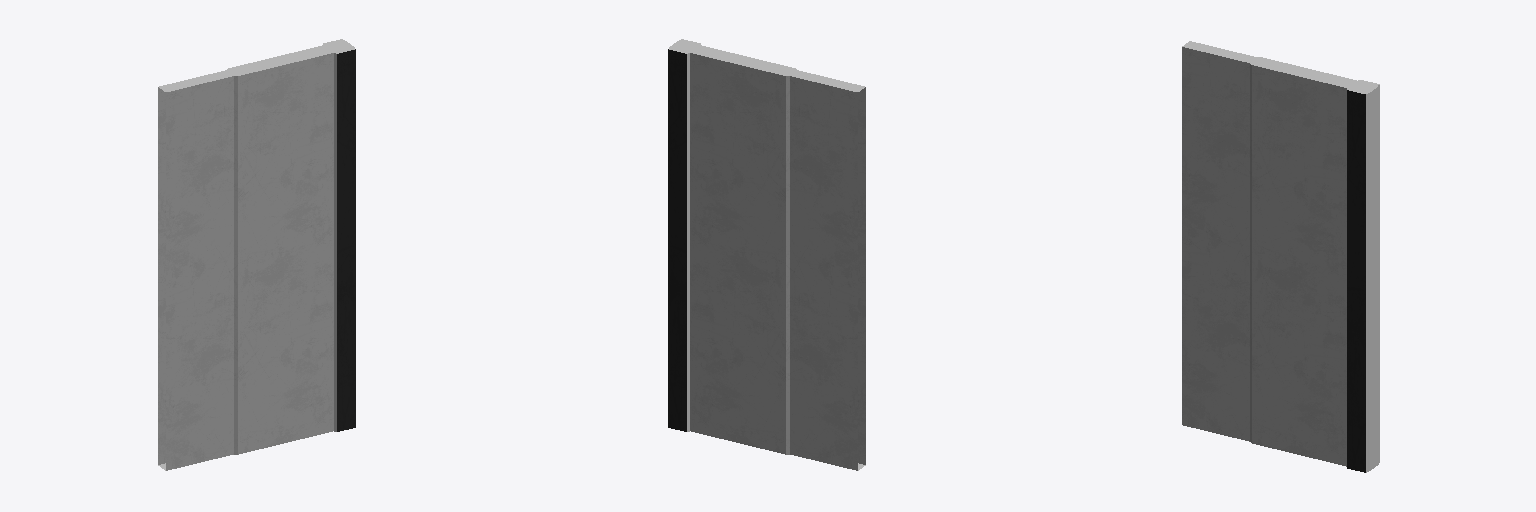
3 views of the same model, side by side, from view 1: azimuth 30°, elevation 25°; view 2: azimuth 150°, elevation 25°; view 3: azimuth 330°, elevation 25° (orthographic).
Visible parts, largest first — view 1: Door_Simple_Cube.026; view 2: Door_Simple_Cube.026; view 3: Door_Simple_Cube.026.
Boxes of the visible parts, x1=… form: Door_Simple_Cube.026: x1=158, y1=39, x2=355, y2=470; Door_Simple_Cube.026: x1=668, y1=39, x2=865, y2=470; Door_Simple_Cube.026: x1=1182, y1=41, x2=1379, y2=472.
Size of the model in its own units: 2.11 by 4.05 by 0.2726.
Materials: 3 (2 with a texture image).